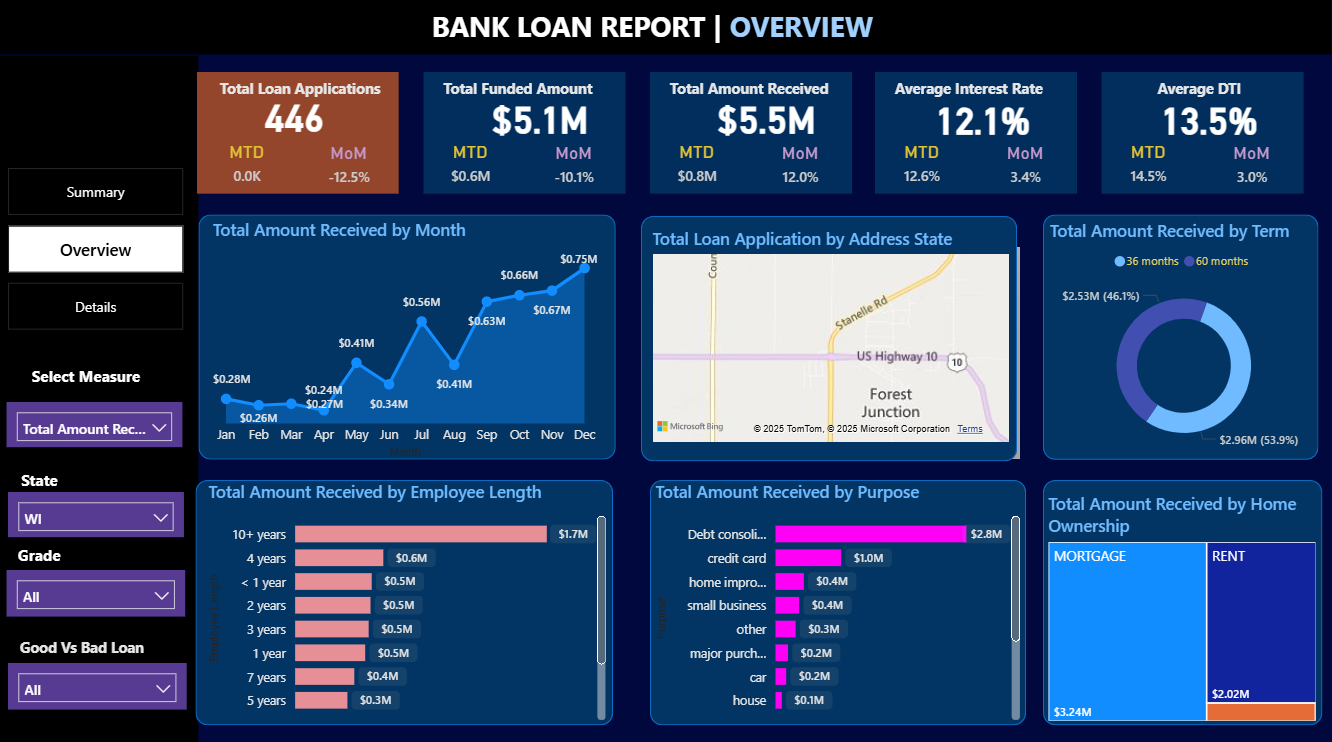

What the dashboard file says about the page in this screenshot:
{"tool":"powerbi","page":{"name":"Overview","canvas":[1280,720],"ordinal":1},"visuals":[{"type":"shape","box":[0,55.5,194.2,664.5],"z":0},{"type":"shape","box":[410.2,71.3,193.7,117],"z":0,"group":"g3"},{"type":"shape","box":[626.7,71.3,193.7,117],"z":0,"group":"g4"},{"type":"shape","box":[843.2,71.3,193.7,117],"z":0,"group":"g5"},{"type":"shape","box":[192.3,71.4,193.7,117],"z":0,"group":"g1"},{"type":"shape","box":[1059.7,71.9,193.7,117],"z":0,"group":"g6"},{"type":"shape","box":[0,0,1280.3,55],"z":1000},{"type":"card","fields":{"Values":["bank_loan_data.Total Loan Application"]},"box":[228.8,76.7,113.6,69.9],"z":1000,"group":"g1"},{"type":"card","fields":{"Values":["bank_loan_data.Total Funded Amount"]},"box":[447.1,82,147.9,64.6],"z":1000,"group":"g3"},{"type":"card","fields":{"Values":["bank_loan_data.Total Amount Received"]},"box":[663.6,82,147.9,64.6],"z":1000,"group":"g4"},{"type":"card","fields":{"Values":["bank_loan_data.Avg Interest Rate"]},"box":[872.1,82.5,147.9,64.6],"z":1000,"group":"g5"},{"type":"card","fields":{"Values":["bank_loan_data.Avg DTI"]},"box":[1088.6,83.1,147.9,64.6],"z":1000,"group":"g6"},{"type":"textbox","box":[204.7,71.3,197.8,40.3],"z":2000,"group":"g1"},{"type":"textbox","box":[420.9,71.3,197.8,40.3],"z":2000,"group":"g3"},{"type":"textbox","box":[637.4,71.3,197.8,40.3],"z":2000,"group":"g4"},{"type":"textbox","box":[853.9,71.3,197.8,40.3],"z":2000,"group":"g5"},{"type":"textbox","box":[1070.1,71.3,169.4,40.3],"z":2000,"group":"g6"},{"type":"textbox","box":[21.7,347.3,136.3,41],"z":2000,"group":"g8"},{"type":"textbox","box":[12.1,447.4,95.3,31.4],"z":2000,"group":"g7"},{"type":"textbox","box":[12.1,517.4,83.2,31.4],"z":2000},{"type":"card","title":"MTD","fields":{"Values":["bank_loan_data.MTD Loan Applications"]},"box":[204.7,137.2,69.5,51.1],"z":3000,"group":"g1"},{"type":"card","title":"MTD","fields":{"Values":["bank_loan_data.MTD Funded Applications"]},"box":[420.9,137.2,69.5,51.1],"z":3000,"group":"g3"},{"type":"card","title":"MTD","fields":{"Values":["bank_loan_data.MTD Total Amount Received"]},"box":[637.4,137.2,69.5,51.1],"z":3000,"group":"g4"},{"type":"card","title":"MTD","fields":{"Values":["bank_loan_data.MTD Average Interest Rate"]},"box":[853.9,137.2,69.5,51.1],"z":3000,"group":"g5"},{"type":"card","title":"MTD","fields":{"Values":["bank_loan_data.MTD Average DTI"]},"box":[1070.4,137.8,69.5,51.1],"z":3000,"group":"g6"},{"type":"textbox","box":[9.6,607.8,156.8,31.4],"z":3000},{"type":"group","id":"g1","title":"Group 2","box":[192.3,71.3,210.2,117.1],"z":3005,"group":"g2"},{"type":"card","title":"MoM","fields":{"Values":["bank_loan_data.MoM Loan Applications"]},"box":[303,138.2,69.5,49.8],"z":4000,"group":"g1"},{"type":"card","title":"MoM","fields":{"Values":["bank_loan_data.MoM Total Funded Amount"]},"box":[519.1,138.2,69.5,49.8],"z":4000,"group":"g3"},{"type":"card","title":"MoM","fields":{"Values":["bank_loan_data.MoM Total Amount Received"]},"box":[735.6,138.2,69.5,49.8],"z":4000,"group":"g4"},{"type":"card","title":"MoM","fields":{"Values":["bank_loan_data.MoM Average Interest Rate"]},"box":[952.1,138.2,69.5,49.8],"z":4000,"group":"g5"},{"type":"card","title":"MoM","fields":{"Values":["bank_loan_data.MoM Average DTI"]},"box":[1168.6,138.9,69.5,49.8],"z":4000,"group":"g6"},{"type":"shape","box":[194.3,208.6,400,235],"z":4000},{"type":"esriVisual","fields":{"Size":["bank_loan_data.Total Amount Received"],"Location":["bank_loan_data.address_state"]},"box":[627.1,209.8,359.4,237.6],"z":5000},{"type":"textbox","box":[412.9,4,520.4,45.7],"z":6000},{"type":"group","id":"g2","title":"Group 1","box":[192.3,71.3,210.2,117.1],"z":7000},{"type":"group","id":"g3","title":"Group 2","box":[410.2,71.3,208.4,117],"z":8000},{"type":"group","id":"g4","title":"Group 2","box":[626.7,71.3,208.4,117],"z":9000},{"type":"group","id":"g5","title":"Group 2","box":[843.2,71.3,208.4,117],"z":10000},{"type":"group","id":"g6","title":"Group 2","box":[1059.7,71.3,193.7,117],"z":11000},{"type":"slicer","fields":{"Values":["bank_loan_data.address_state"]},"box":[12.1,474,168.8,43.4],"z":12000},{"type":"slicer","fields":{"Values":["bank_loan_data.grade"]},"box":[9.6,548.7,171.3,44.6],"z":13000},{"type":"slicer","fields":{"Values":["bank_loan_data.Good Vs Bad Loan"]},"box":[12.1,639.2,171.3,44.6],"z":14000},{"type":"group","id":"g7","title":"Group 2","box":[12.1,447.4,95.3,31.4],"z":15000},{"type":"areaChart","fields":{"Y":["bank_loan_data.Total Amount Received"],"Category":["Date Table.Month"]},"box":[202.6,211.1,378.7,235.2],"z":16000},{"type":"slicer","fields":{"Values":["Select Measure.Select Measure"]},"box":[9.6,388.3,168.8,43.4],"z":17000},{"type":"group","id":"g8","title":"Group 2","box":[21.7,347.3,136.3,41],"z":18000},{"type":"shape","box":[618.7,209.8,360.6,235.2],"z":19000},{"type":"shape","box":[1003.4,208.6,264.1,235.2],"z":20000},{"type":"donutChart","fields":{"Y":["bank_loan_data.Total Amount Received"],"Category":["bank_loan_data.term"]},"box":[1004.6,212.3,266.5,232.8],"z":21000},{"type":"shape","box":[191.8,463.1,400.4,235.2],"z":22000},{"type":"barChart","fields":{"Y":["bank_loan_data.Total Amount Received"],"Category":["bank_loan_data.emp_length"]},"box":[197.8,463.1,390.8,235.2],"z":23000},{"type":"shape","box":[627.1,463.1,360.6,235.2],"z":24000},{"type":"barChart","fields":{"Y":["bank_loan_data.Total Amount Received"],"Category":["bank_loan_data.purpose"]},"box":[627.1,463.1,359.4,235.2],"z":25000},{"type":"shape","box":[1003.4,463.1,267.7,235.2],"z":26000},{"type":"treemap","fields":{"Values":["bank_loan_data.Total Amount Received"],"Group":["bank_loan_data.home_ownership"]},"box":[1003.4,474,266.5,224.3],"z":27000},{"type":"pageNavigator","box":[12.1,164,168.8,158],"z":28000},{"type":"filledMap","title":"Total Loan Application by Address State","fields":{"Y":["bank_loan_data.Total Amount Received"],"Category":["bank_loan_data.address_state"]},"box":[623.5,219.5,352.2,211.1],"z":29000}]}

Visuals, with their boxes in screenshot pixels (x1, y1, x2, y2), scaled from the page's 1280x720 canvas onto the 1332x742 screenshot:
shape: l=0, t=57, r=202, b=741
shape: l=427, t=73, r=628, b=194
shape: l=652, t=73, r=854, b=194
shape: l=877, t=73, r=1079, b=194
shape: l=200, t=74, r=402, b=194
shape: l=1103, t=74, r=1304, b=195
shape: l=0, t=0, r=1331, b=57
card - bank_loan_data.Total Loan Application: l=238, t=79, r=356, b=151
card - bank_loan_data.Total Funded Amount: l=465, t=85, r=619, b=151
card - bank_loan_data.Total Amount Received: l=691, t=85, r=844, b=151
card - bank_loan_data.Avg Interest Rate: l=908, t=85, r=1061, b=152
card - bank_loan_data.Avg DTI: l=1133, t=86, r=1287, b=152
textbox: l=213, t=73, r=419, b=115
textbox: l=438, t=73, r=644, b=115
textbox: l=663, t=73, r=869, b=115
textbox: l=889, t=73, r=1094, b=115
textbox: l=1114, t=73, r=1290, b=115
textbox: l=23, t=358, r=164, b=400
textbox: l=13, t=461, r=112, b=493
textbox: l=13, t=533, r=99, b=566
"MTD" card: l=213, t=141, r=285, b=194
"MTD" card: l=438, t=141, r=510, b=194
"MTD" card: l=663, t=141, r=736, b=194
"MTD" card: l=889, t=141, r=961, b=194
"MTD" card: l=1114, t=142, r=1186, b=195
textbox: l=10, t=626, r=173, b=659
"Group 2" group: l=200, t=73, r=419, b=194
"MoM" card: l=315, t=142, r=388, b=194
"MoM" card: l=540, t=142, r=613, b=194
"MoM" card: l=765, t=142, r=838, b=194
"MoM" card: l=991, t=142, r=1063, b=194
"MoM" card: l=1216, t=143, r=1288, b=194
shape: l=202, t=215, r=618, b=457
esriVisual - bank_loan_data.Total Amount Received x bank_loan_data.address_state: l=653, t=216, r=1027, b=461
textbox: l=430, t=4, r=971, b=51
"Group 1" group: l=200, t=73, r=419, b=194
"Group 2" group: l=427, t=73, r=644, b=194
"Group 2" group: l=652, t=73, r=869, b=194
"Group 2" group: l=877, t=73, r=1094, b=194
"Group 2" group: l=1103, t=73, r=1304, b=194
slicer - bank_loan_data.address_state: l=13, t=488, r=188, b=533
slicer - bank_loan_data.grade: l=10, t=565, r=188, b=611
slicer - bank_loan_data.Good Vs Bad Loan: l=13, t=659, r=191, b=705
"Group 2" group: l=13, t=461, r=112, b=493
areaChart - bank_loan_data.Total Amount Received x Date Table.Month: l=211, t=218, r=605, b=460
slicer - Select Measure.Select Measure: l=10, t=400, r=186, b=445
"Group 2" group: l=23, t=358, r=164, b=400
shape: l=644, t=216, r=1019, b=459
shape: l=1044, t=215, r=1319, b=457
donutChart - bank_loan_data.Total Amount Received x bank_loan_data.term: l=1045, t=219, r=1323, b=459
shape: l=200, t=477, r=616, b=720
barChart - bank_loan_data.Total Amount Received x bank_loan_data.emp_length: l=206, t=477, r=613, b=720
shape: l=653, t=477, r=1028, b=720
barChart - bank_loan_data.Total Amount Received x bank_loan_data.purpose: l=653, t=477, r=1027, b=720
shape: l=1044, t=477, r=1323, b=720
treemap - bank_loan_data.Total Amount Received x bank_loan_data.home_ownership: l=1044, t=488, r=1321, b=720
pageNavigator: l=13, t=169, r=188, b=332
"Total Loan Application by Address State" filledMap: l=649, t=226, r=1015, b=444
